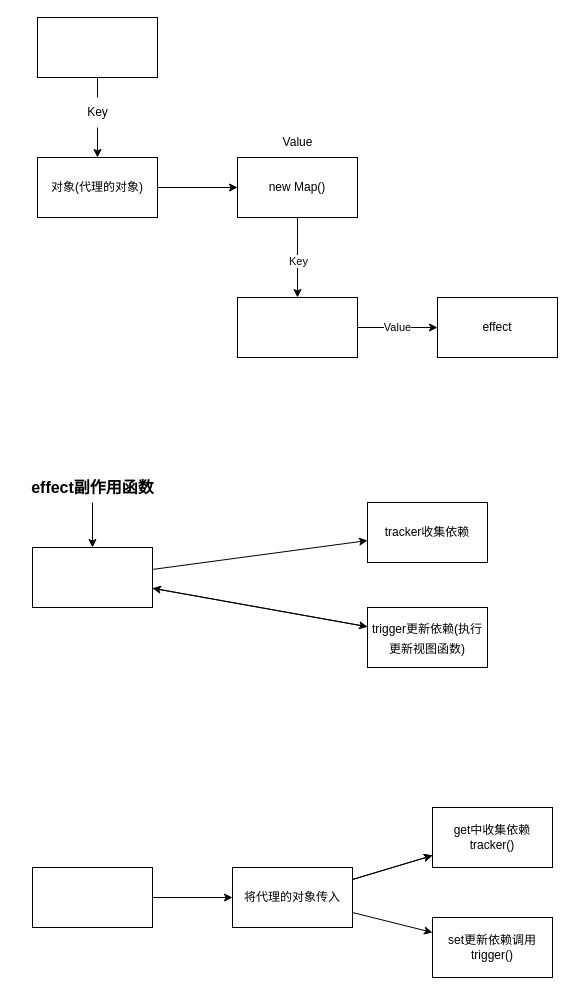
This 575x995 diagram has some shape labels left out. Each missing label, with the centre of its shape:
"reactive" goes at point 92,897.
"weakMap" goes at point 97,47.
"收集更新视图的函数" goes at point 92,577.
"访问数据具体的key" goes at point 297,327.
